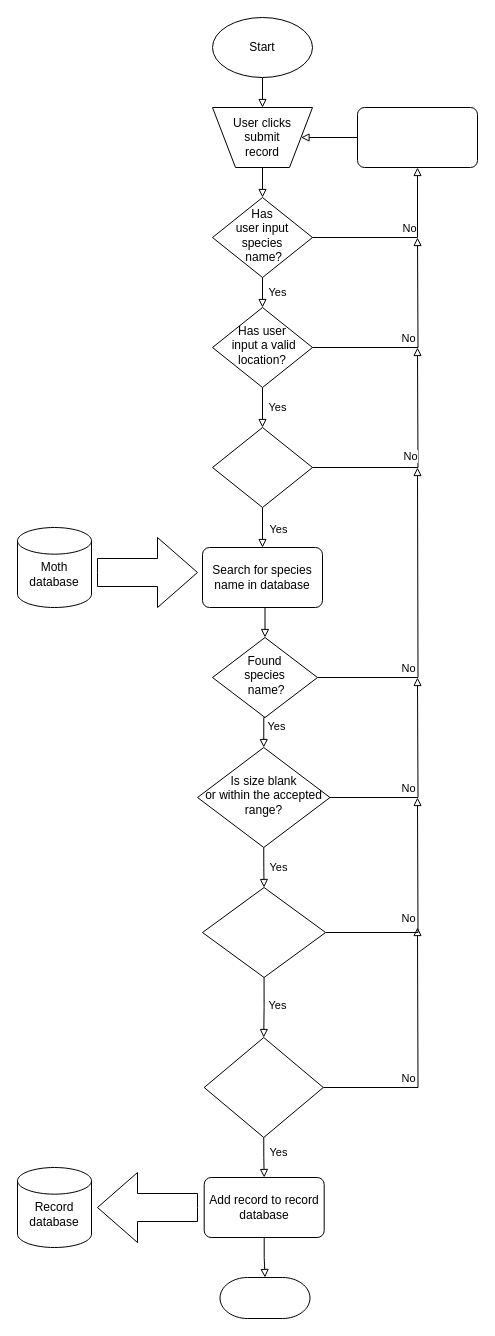
Image size: 495x1336. Some labels were removed from this diagram. Each missing label, with the centre of its shape:
"Display record contains invalid information message" belongs at (x=417, y=137).
"End" belongs at (x=264, y=1297).
"Has user input valid a date?" belongs at (x=262, y=467).
"Is sex blank or a valid value format?" belongs at (x=263, y=1087).
"Is time blank or in a valid format?" belongs at (x=264, y=932).
